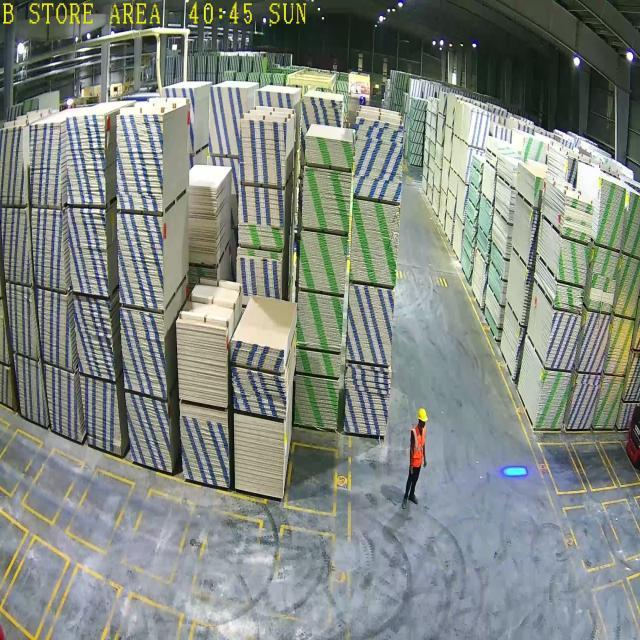material_stack: (351, 198, 401, 288), (234, 413, 284, 500), (354, 116, 404, 203), (346, 282, 395, 367), (342, 363, 392, 438), (301, 164, 353, 235), (298, 230, 348, 295), (232, 365, 287, 419), (296, 291, 344, 352), (294, 374, 340, 430), (533, 370, 572, 431), (545, 310, 582, 373), (595, 178, 627, 250), (587, 245, 620, 314), (578, 311, 612, 373), (566, 373, 600, 430), (229, 340, 284, 373), (605, 316, 635, 375), (593, 375, 625, 430), (304, 135, 353, 170), (614, 254, 640, 318), (557, 238, 590, 288), (562, 195, 595, 244), (295, 349, 341, 380), (553, 281, 585, 316)
